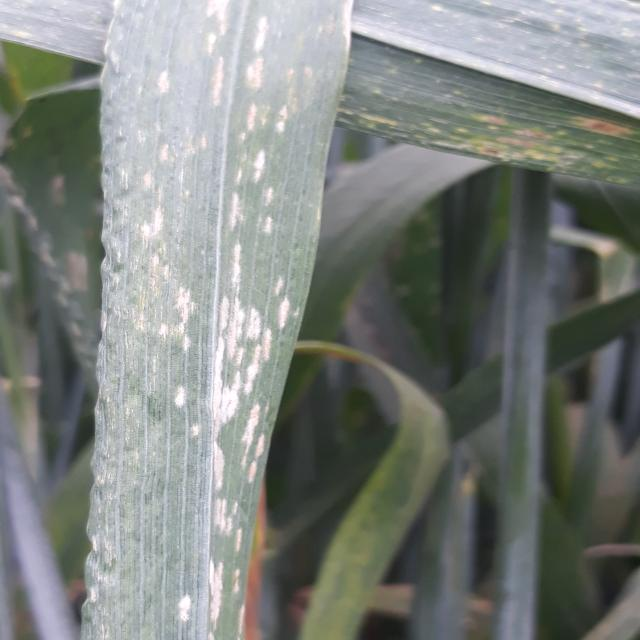powder_mildew: (95, 0, 356, 640), (359, 0, 640, 197), (0, 99, 91, 352), (0, 0, 109, 60)
